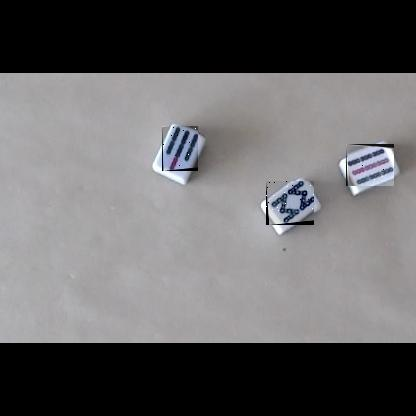7s: (162, 126, 198, 171)
8s: (266, 181, 314, 225)
9s: (346, 144, 394, 186)
